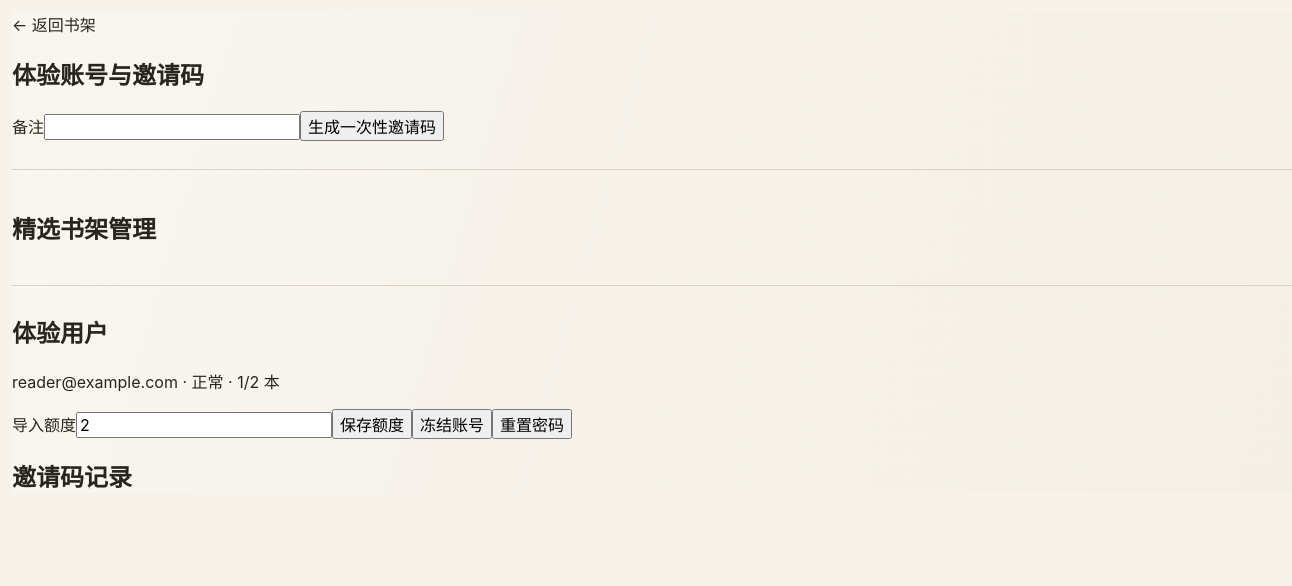
Test case: AdminExperience › lets the owner freeze a user and displays a newly reset temporary password
The image size is (1292, 586).
Check: the text "reader@example.com · 正常 · 1/2 本" is shown, box 12,372 -> 280,392
Click the button "冻结账号". click: (452, 424)
box: 412,408 -> 492,438
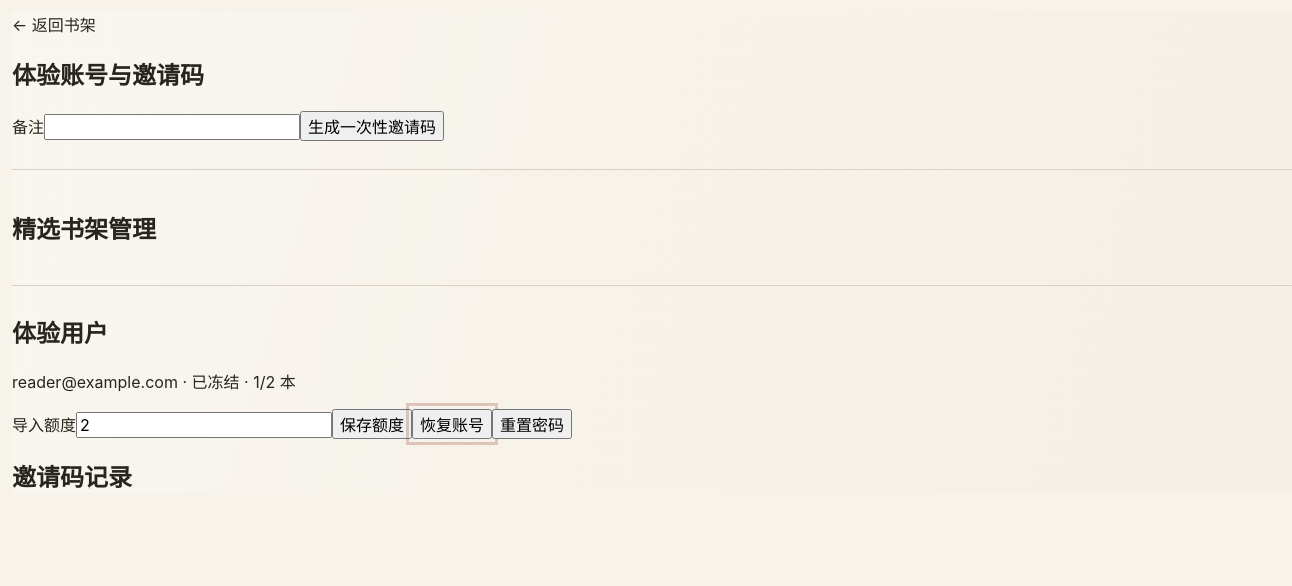
Click the button "重置密码". click: (532, 424)
box: 492,408 -> 572,438
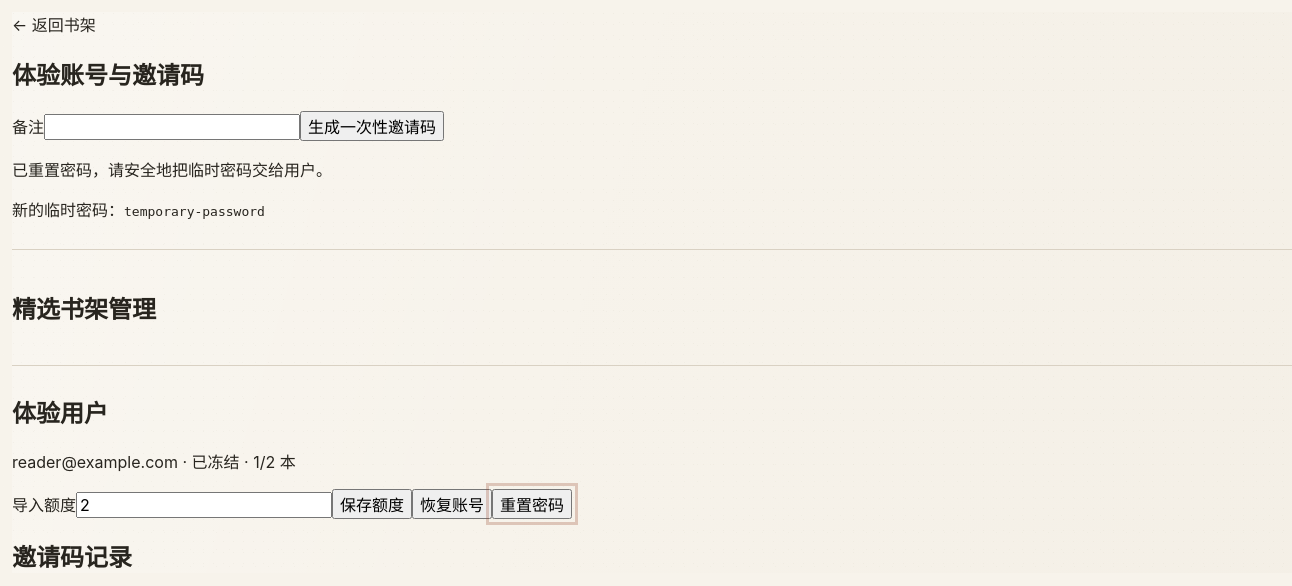
Check: the text "temporary-password" is shown, box 124,204 -> 265,219
